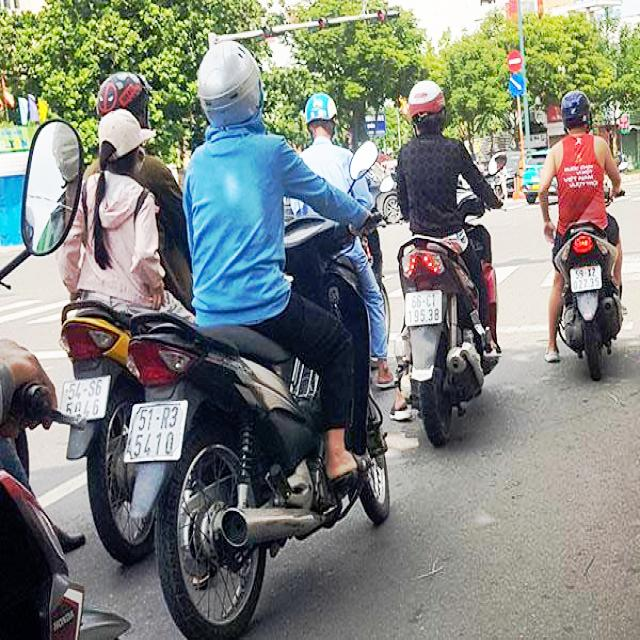license_plate: (125, 402, 187, 462), (406, 291, 444, 325)
